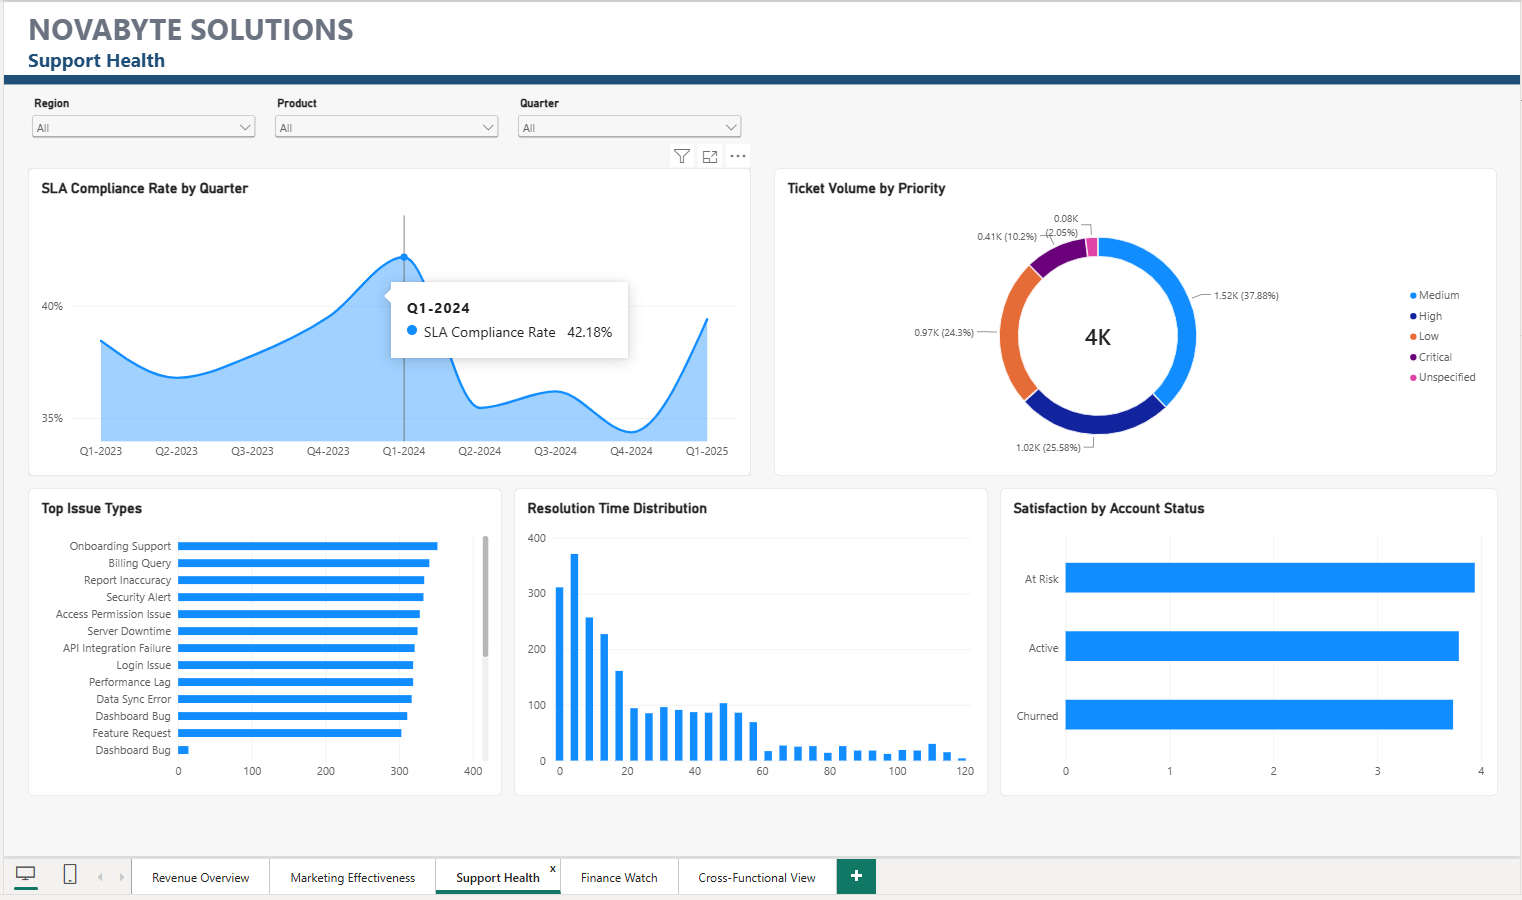

The dashboard page shown, as its layout file describes it:
{"tool":"powerbi","page":{"name":"Support Health","canvas":[1920,1080],"ordinal":2},"visuals":[{"type":"lineChart","title":"SLA Compliance Rate by Quarter","fields":{"Category":["Support_Tickets.Quarter"],"Y":["Measures_Table.SLA Compliance Rate"]},"box":[30,210,915,390],"z":0},{"type":"donutChart","title":"Ticket Volume by Priority","fields":{"Category":["Support_Tickets.Priority"],"Y":["CountNonNull(Support_Tickets.Ticket_ID)"]},"box":[975,210,915,390],"z":1000},{"type":"barChart","title":"Top Issue Types","fields":{"Category":["Support_Tickets.Issue_Type"],"Y":["CountNonNull(Support_Tickets.Ticket_ID)"]},"box":[30,615,600,390],"z":2000},{"type":"columnChart","title":"Resolution Time Distribution","fields":{"Category":["Support_Tickets.Resolution_Hours (bins)"],"Y":["CountNonNull(Support_Tickets.Ticket_ID)"]},"box":[645,615,600,390],"z":3000},{"type":"barChart","title":"Satisfaction by Account Status","fields":{"Category":["Clients.Account_Status"],"Y":["Measures_Table.Avg Satisfaction"]},"box":[1260,615,630,390],"z":4000},{"type":"slicer","fields":{"Values":["Clients.Region"]},"box":[30,120,293,68],"z":5000},{"type":"slicer","fields":{"Values":["Support_Tickets.Product"]},"box":[338,120,293,68],"z":6000},{"type":"slicer","fields":{"Values":["Support_Tickets.Quarter"]},"box":[645,120,293,68],"z":7000},{"type":"shape","box":[0,0,1920,105],"z":8000},{"type":"shape","box":[0,93,1920,12],"z":9000},{"type":"textbox","box":[30,8,600,85],"z":10000}]}

Visuals, with their boxes on the page's 1920x1080 design canvas (x1, y1, x2, y2). These are canvas units, not pixel positions in the 1522x900 screenshot, which may show the page scaled, cropped or inside an application window:
"SLA Compliance Rate by Quarter" lineChart: <box>30,210,945,600</box>
"Ticket Volume by Priority" donutChart: <box>975,210,1890,600</box>
"Top Issue Types" barChart: <box>30,615,630,1005</box>
"Resolution Time Distribution" columnChart: <box>645,615,1245,1005</box>
"Satisfaction by Account Status" barChart: <box>1260,615,1890,1005</box>
slicer - Clients.Region: <box>30,120,323,188</box>
slicer - Support_Tickets.Product: <box>338,120,631,188</box>
slicer - Support_Tickets.Quarter: <box>645,120,938,188</box>
shape: <box>0,0,1920,105</box>
shape: <box>0,93,1920,105</box>
textbox: <box>30,8,630,93</box>
